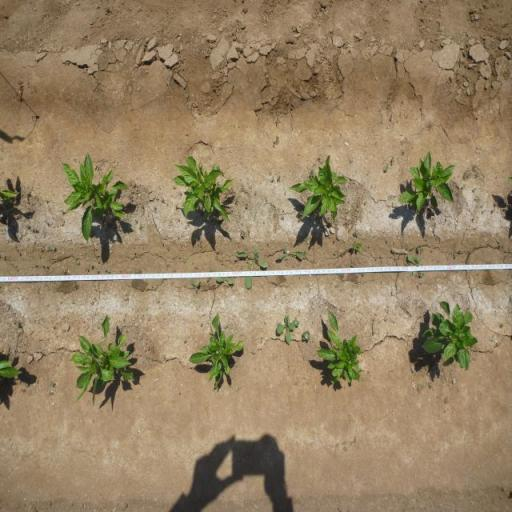plant: (69, 310, 137, 410), (58, 151, 129, 242), (187, 309, 246, 395), (420, 298, 480, 374), (288, 153, 353, 223), (172, 154, 233, 224), (315, 307, 366, 387), (395, 149, 456, 215)
weed: (236, 245, 268, 291), (274, 245, 304, 266), (276, 314, 295, 346), (406, 254, 422, 277), (189, 278, 202, 294), (216, 276, 234, 286), (350, 240, 364, 252), (301, 329, 311, 342), (416, 244, 425, 254), (308, 168, 314, 179), (46, 245, 56, 251), (138, 222, 144, 232), (302, 248, 308, 258), (294, 318, 300, 327), (352, 229, 359, 236), (382, 165, 389, 172), (13, 321, 20, 328), (240, 230, 246, 238), (49, 380, 55, 387), (390, 156, 395, 164), (418, 272, 424, 278), (276, 175, 281, 182), (260, 336, 264, 344), (163, 354, 167, 362), (76, 259, 80, 266), (160, 196, 164, 202), (234, 197, 238, 203), (462, 184, 466, 190)
